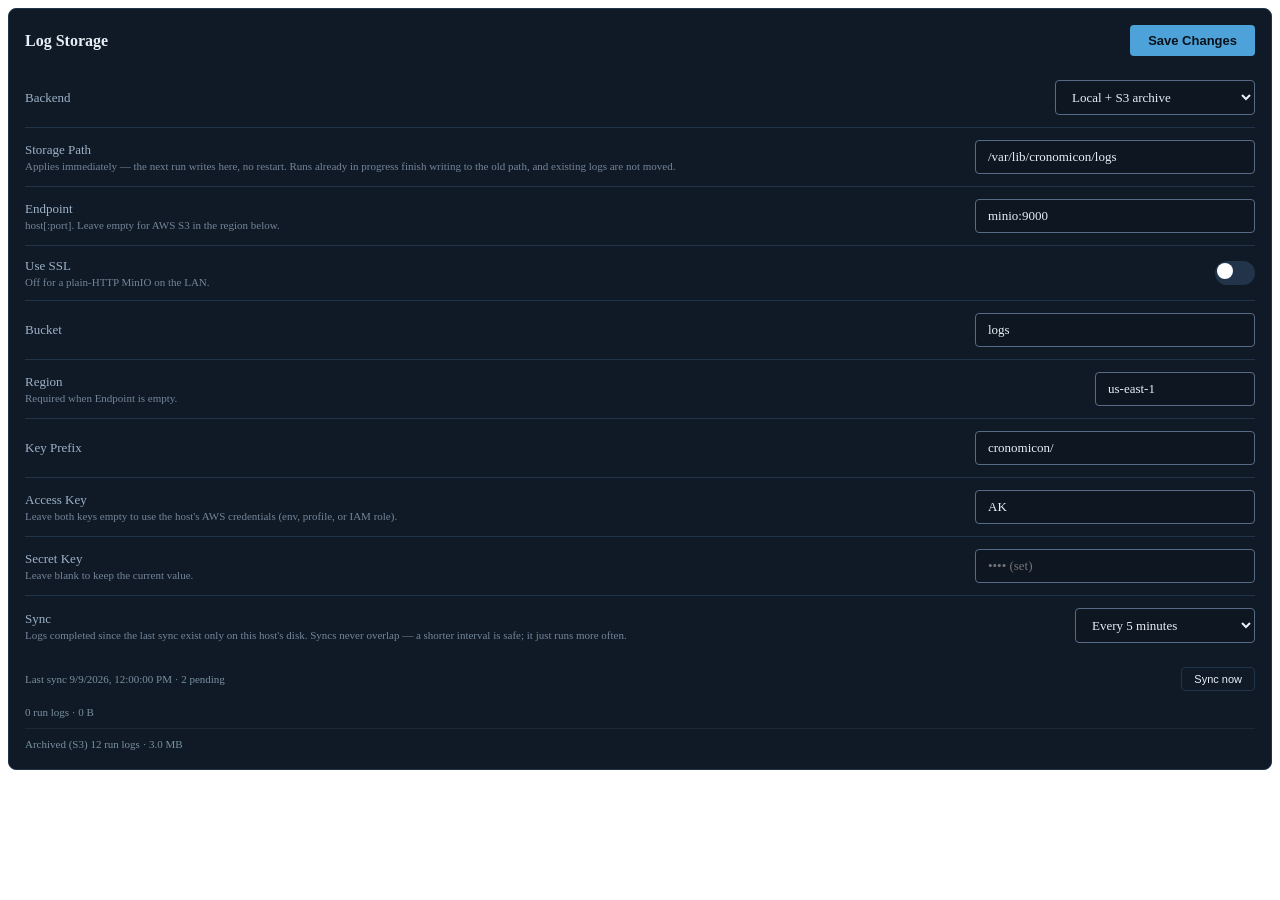
Test: Log Storage archive controls › reports the archive status and runs Sync now against the endpoint
expect the text "Last sync 9/9/2026, 12:00:00 PM · 2 pending" is shown: met, box x1=25 y1=670 x2=225 y2=688
expect the text "Archived (S3) 12 run logs · 3.0 MB" is shown: met, box x1=25 y1=738 x2=183 y2=750
What coordinates should you click on to do the following:
click the button "Sync now"
I would click on:
 (1218, 679)
Its box is x1=1181 y1=667 x2=1255 y2=691.
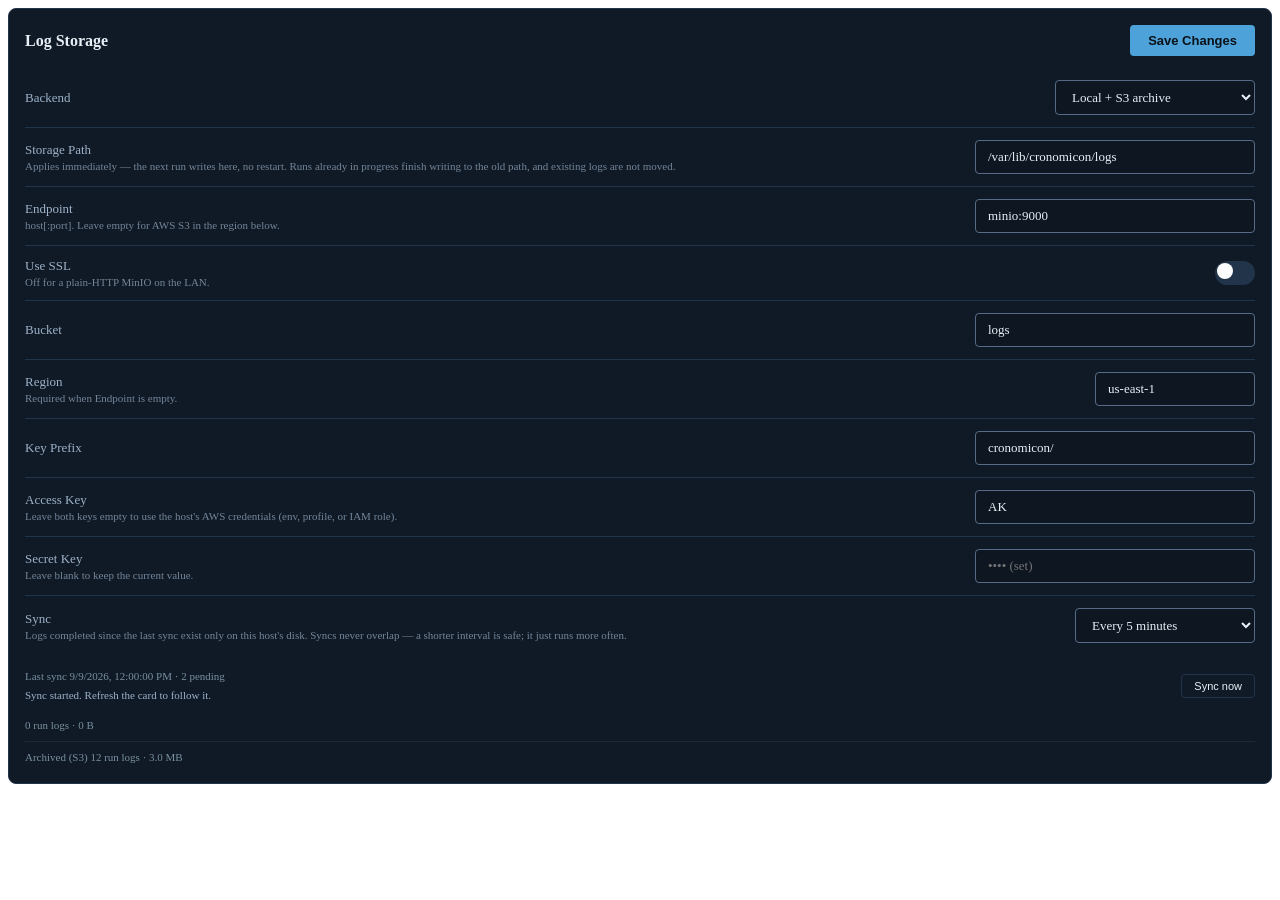
expect the text "Sync started. Refresh the card to follow it." is shown: met, box x1=25 y1=686 x2=225 y2=704
